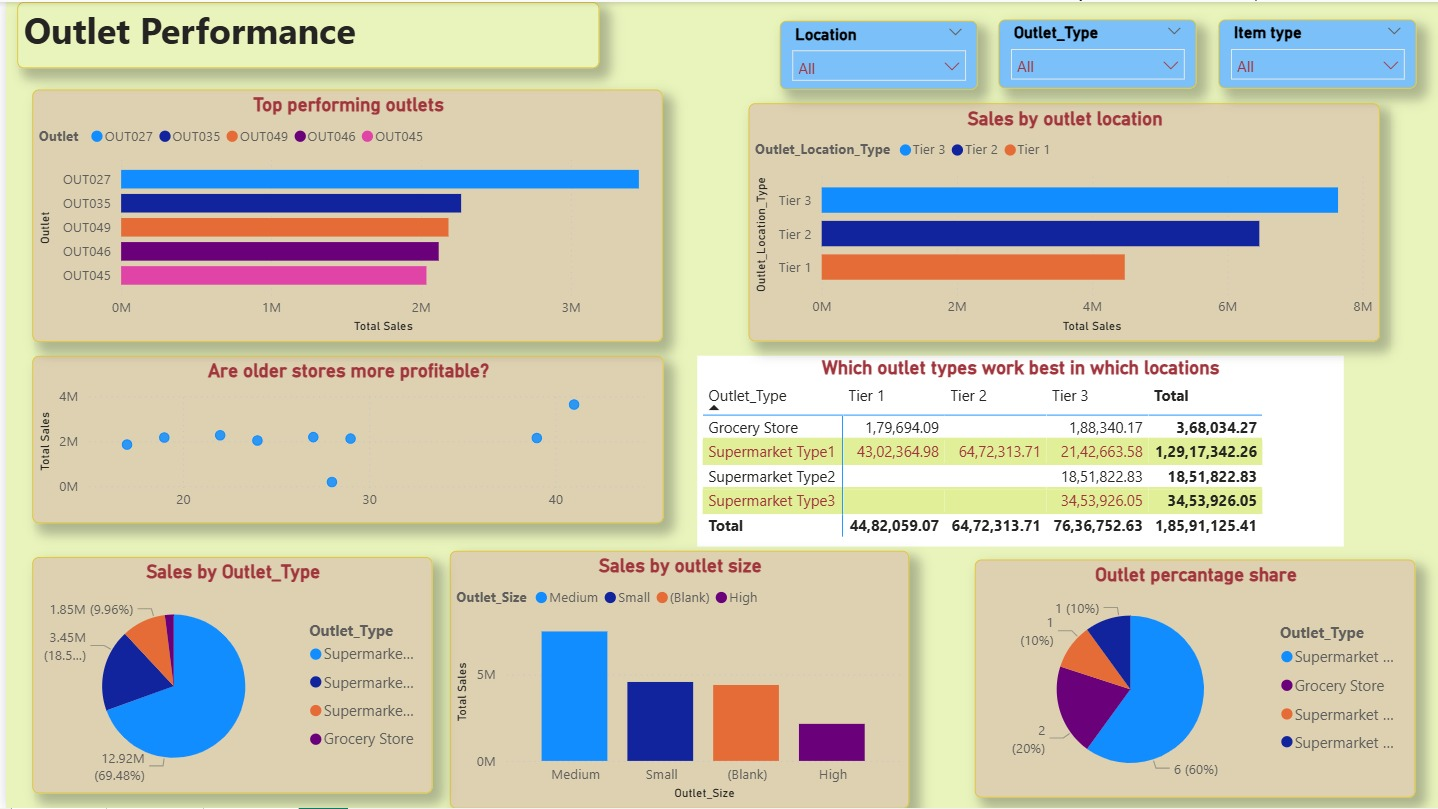

What the dashboard file says about the page in this screenshot:
{"tool":"powerbi","page":{"name":"Page 2","canvas":[1280,720],"ordinal":1},"visuals":[{"type":"textbox","box":[9.6,0,520.1,59],"z":0},{"type":"slicer","fields":{"Values":["Dim_product.Item_Type"]},"box":[1082.7,15.1,177,61.7],"z":1000},{"type":"slicer","fields":{"Values":["Dim_outlet.Outlet_Type"]},"box":[886.5,15.1,177,61.7],"z":2000},{"type":"slicer","fields":{"Values":["Dim_outlet.Outlet_Location_Type"]},"box":[691.6,16.5,177,61.7],"z":3000},{"type":"barChart","title":"Top performing outlets","fields":{"Category":["Dim_outlet.Outlet_Identifier"],"Y":["Measures (2).Total Sales"],"Series":["Dim_outlet.Outlet_Identifier"]},"box":[23.7,77.9,563.5,225.4],"z":4000},{"type":"pivotTable","title":"Which outlet types work best in which locations","fields":{"Rows":["Dim_outlet.Outlet_Type"],"Columns":["Dim_outlet.Outlet_Location_Type"],"Values":["Measures (2).Total Sales"]},"box":[617.5,315.6,577.7,170.2],"z":5000},{"type":"barChart","title":"Sales by outlet location","fields":{"Category":["Dim_outlet.Outlet_Location_Type"],"Y":["Measures (2).Total Sales"],"Series":["Dim_outlet.Outlet_Location_Type"]},"box":[662.8,90.6,564,212.7],"z":6000},{"type":"columnChart","title":"Sales by outlet size","fields":{"Category":["Dim_outlet.Outlet_Size"],"Y":["Measures (2).Total Sales"],"Series":["Dim_outlet.Outlet_Size"]},"box":[396.6,489.9,410.3,230.5],"z":7000},{"type":"scatterChart","title":"Are older stores more profitable?","fields":{"Y":["Measures (2).Total Sales"],"X":["Dim_outlet.Outlet Age"]},"box":[23.3,315.6,564,149.6],"z":8000},{"type":"pieChart","title":"Sales by Outlet_Type","fields":{"Y":["Measures (2).Total Sales"],"Category":["Dim_outlet.Outlet_Type"]},"box":[23.7,495.3,357.6,211.5],"z":9000},{"type":"pieChart","title":"Outlet percantage share ","fields":{"Category":["Dim_outlet.Outlet_Type"],"Y":["Measures (2).Total Outlets"]},"box":[865.9,498.1,393.8,212.7],"z":10000}]}

Visuals, with their boxes in screenshot pixels (x1, y1, x2, y2), scaled from the page's 1280x720 canvas onto the 1438x809 screenshot:
textbox: (11, 0, 595, 66)
slicer - Dim_product.Item_Type: (1216, 17, 1415, 86)
slicer - Dim_outlet.Outlet_Type: (996, 17, 1195, 86)
slicer - Dim_outlet.Outlet_Location_Type: (777, 19, 976, 88)
"Top performing outlets" barChart: (27, 88, 660, 341)
"Which outlet types work best in which locations" pivotTable: (694, 355, 1343, 546)
"Sales by outlet location" barChart: (745, 102, 1378, 341)
"Sales by outlet size" columnChart: (446, 550, 907, 808)
"Are older stores more profitable?" scatterChart: (26, 355, 660, 523)
"Sales by Outlet_Type" pieChart: (27, 557, 428, 794)
"Outlet percantage share " pieChart: (973, 560, 1415, 799)
